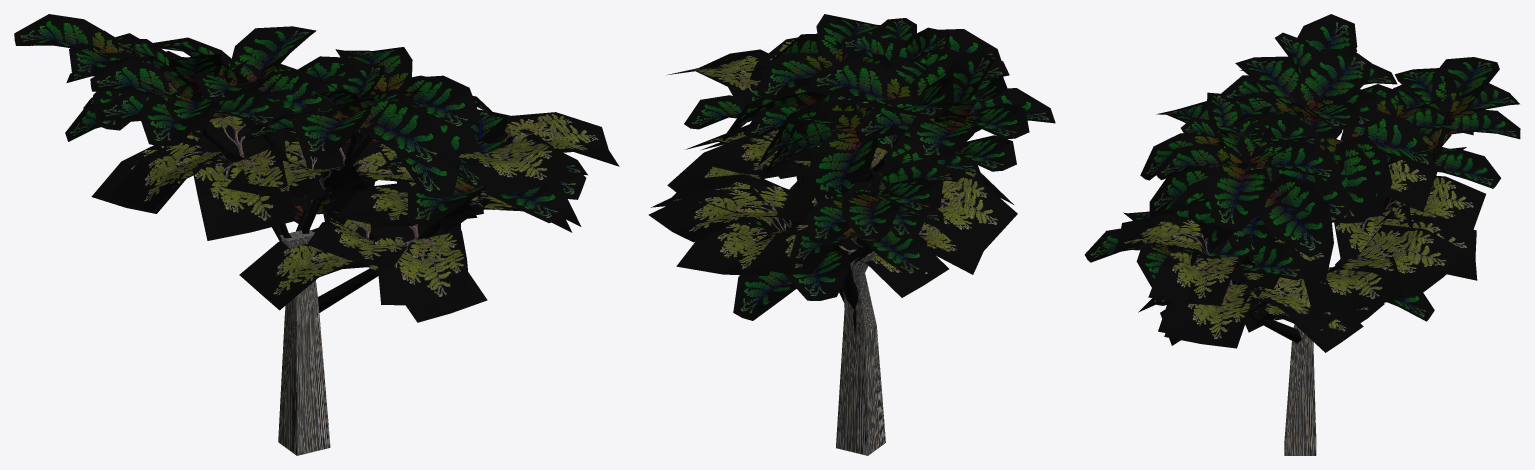
The model's file is p_tree.glb.
3 views of the same model, side by side, from view 1: azimuth 30°, elevation 25°; view 2: azimuth 150°, elevation 25°; view 3: azimuth 270°, elevation 25° (orthographic). The views are drawn at different scales.
Parts seen in each view (by area): view 1: AcaciaBranch_03_18, AcaciaBranch_01_26, ColorMaterial, acciaBark_01_3; view 2: AcaciaBranch_03_18, AcaciaBranch_01_26, ColorMaterial, acciaBark_01_3; view 3: AcaciaBranch_03_18, AcaciaBranch_01_26, ColorMaterial, acciaBark_01_3.
Boxes of the visible parts, <box> form: AcaciaBranch_03_18: <box>14,14,587,225</box>; AcaciaBranch_01_26: <box>91,112,619,322</box>; ColorMaterial: <box>278,230,330,455</box>; acciaBark_01_3: <box>202,116,482,312</box>; AcaciaBranch_03_18: <box>684,14,1055,320</box>; AcaciaBranch_01_26: <box>648,37,1017,297</box>; ColorMaterial: <box>836,247,885,455</box>; acciaBark_01_3: <box>779,127,902,333</box>; AcaciaBranch_03_18: <box>1084,14,1520,321</box>; AcaciaBranch_01_26: <box>1113,160,1485,352</box>; ColorMaterial: <box>1284,325,1316,455</box>; acciaBark_01_3: <box>1244,112,1451,343</box>.
Size of the model in its own units: 17.34 by 15.96 by 17.29.
Materials: 4 (4 with a texture image).
